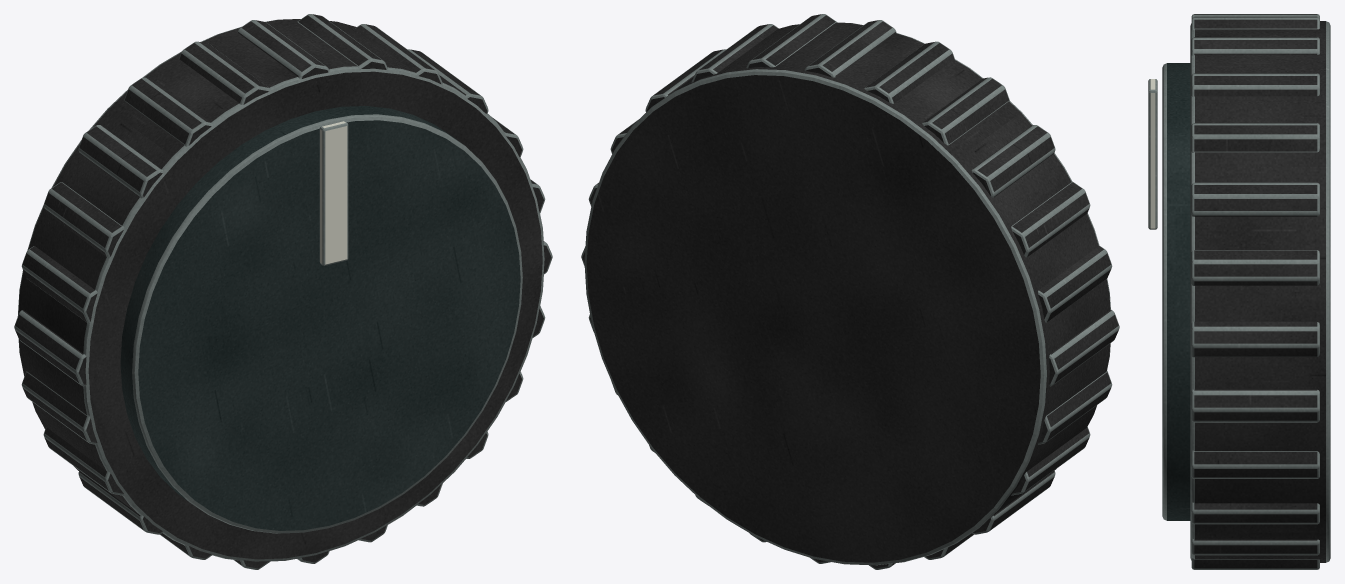
The model's file is VOLTAGE_Knob.fbx.
3 renders of one model, left to right at view 1: azimuth 30°, elevation 25°; view 2: azimuth 150°, elevation 25°; view 3: azimuth 270°, elevation 25°, orthographic.
Visible parts, largest first — view 1: VOLTAGE_Knob__Visual; view 2: VOLTAGE_Knob__Visual; view 3: VOLTAGE_Knob__Visual.
Boxes of the visible parts, bbox=[...] form: VOLTAGE_Knob__Visual: bbox=[14, 14, 552, 569]; VOLTAGE_Knob__Visual: bbox=[581, 14, 1119, 569]; VOLTAGE_Knob__Visual: bbox=[1148, 14, 1330, 569].
Size of the model in its own units: 0.2395 by 0.2395 by 0.078.
Materials: 4 (3 with a texture image).
